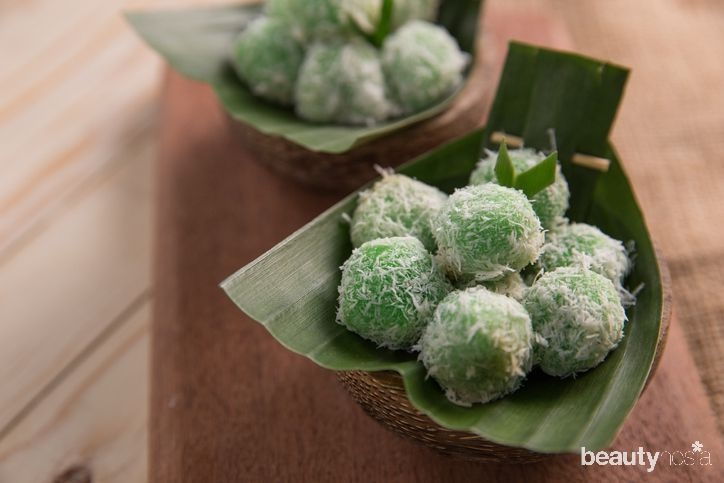klepon: (296, 235, 438, 352), (419, 280, 538, 411), (522, 276, 636, 380), (435, 172, 540, 274)
